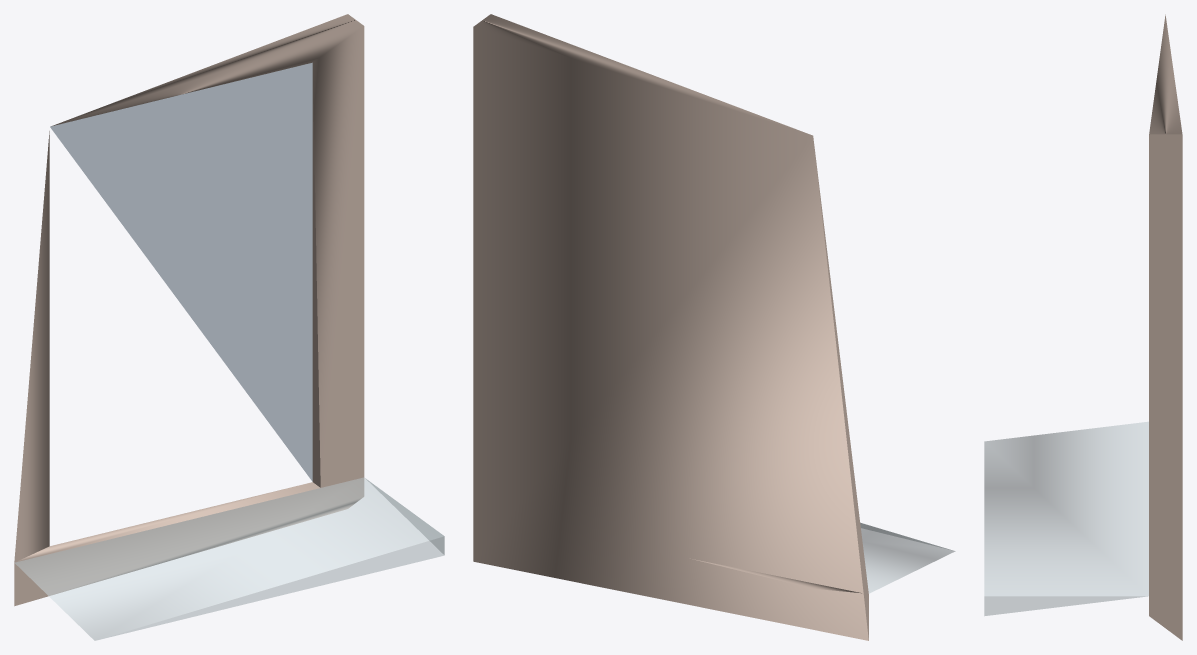
The model's file is bathroomMirror.glb.
3 views of the same model, side by side, from view 1: azimuth 30°, elevation 25°; view 2: azimuth 150°, elevation 25°; view 3: azimuth 270°, elevation 25° (orthographic). The views are drawn at different scales.
Parts seen in each view (by area): view 1: bathroomMirror(Clone); view 2: bathroomMirror(Clone); view 3: bathroomMirror(Clone).
Boxes of the visible parts, <box> form: bathroomMirror(Clone): <box>14,14,444,640</box>; bathroomMirror(Clone): <box>473,14,955,640</box>; bathroomMirror(Clone): <box>984,14,1182,640</box>.
Bounding box in the file's own units: 0.3015 × 0.4076 × 0.1444.
